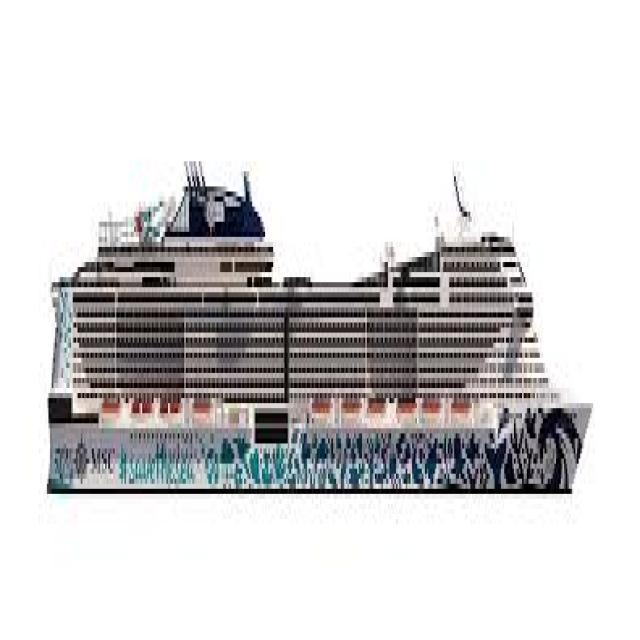PassengerShip: (19, 151, 588, 549)
